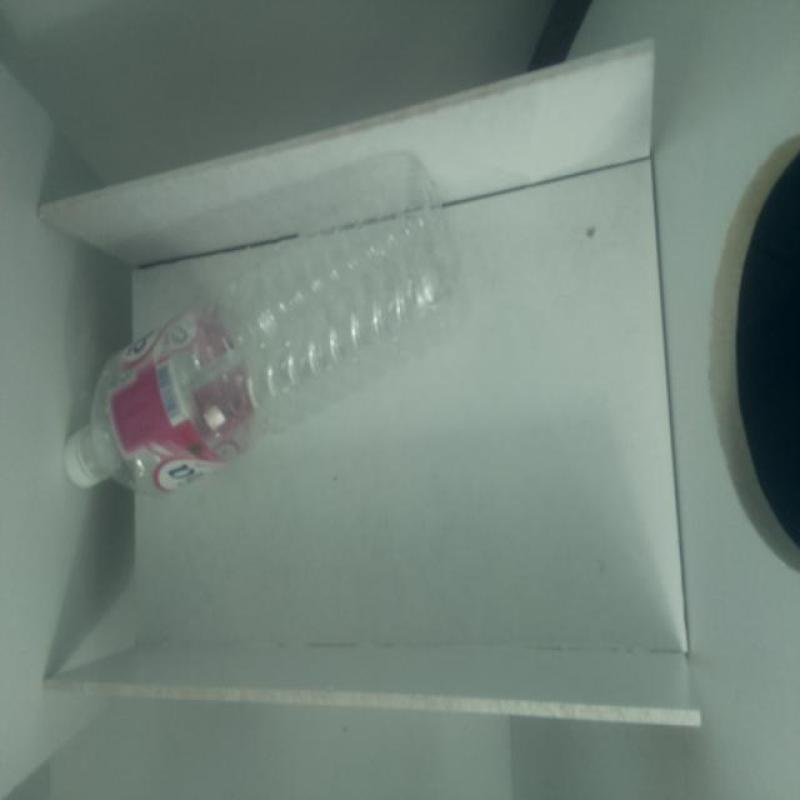botella: (61, 166, 459, 497)
